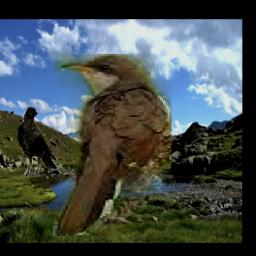Crow: (16, 107, 57, 177)
Cuckoo: (53, 54, 172, 236)
